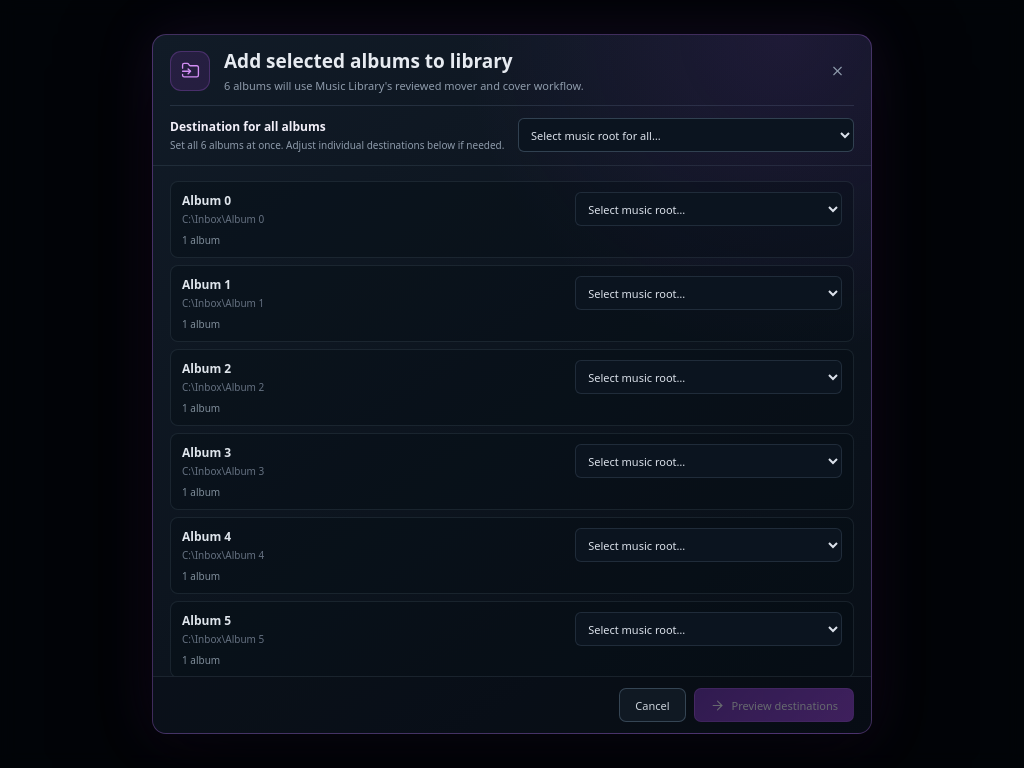
Test: requires review again when identical MP3s become different during a stale-plan retry
Select "General music" in the dropdown labelled "Destination for all albums" at (686, 135), box [518,118,854,152]
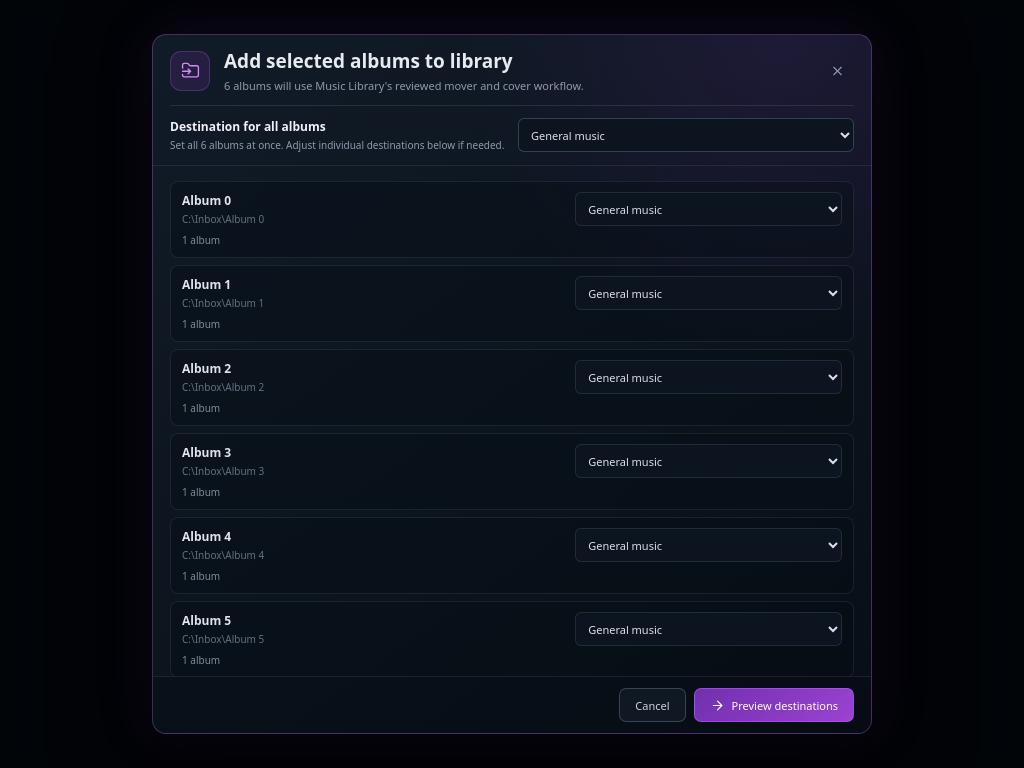
Select "Synthwave" in the dropdown named "Library destination for Album 5" at (709, 629), box [575,612,842,646]
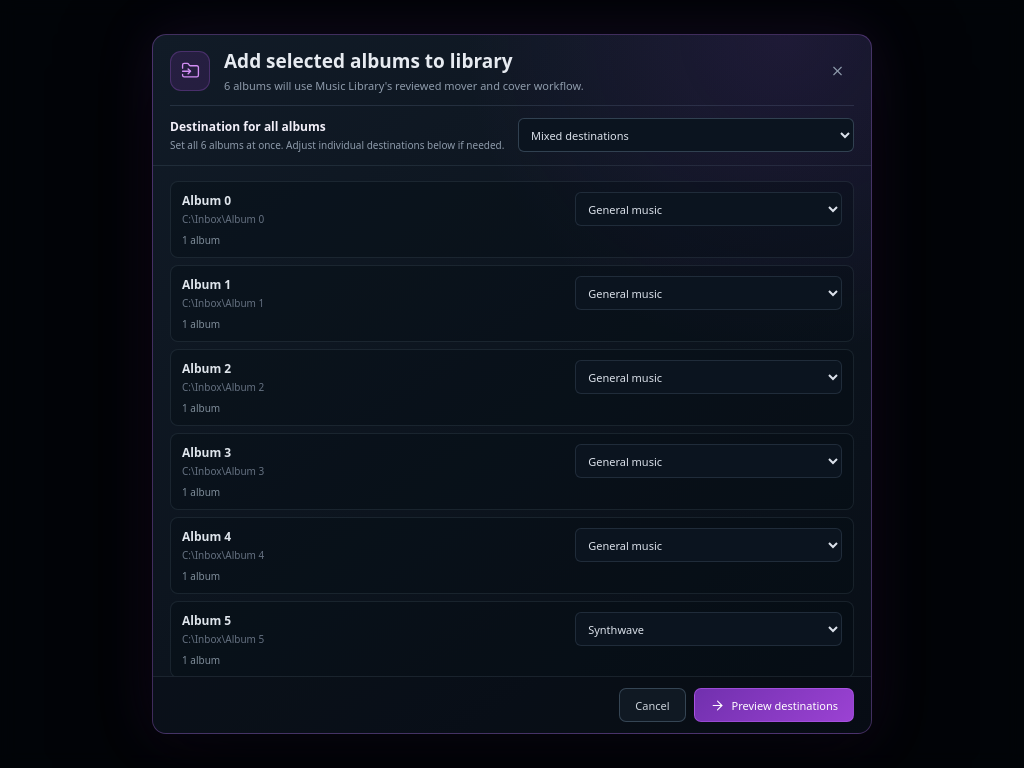
Click the button "Preview destinations" at (774, 705), box [694,688,854,722]
(page scrolled)
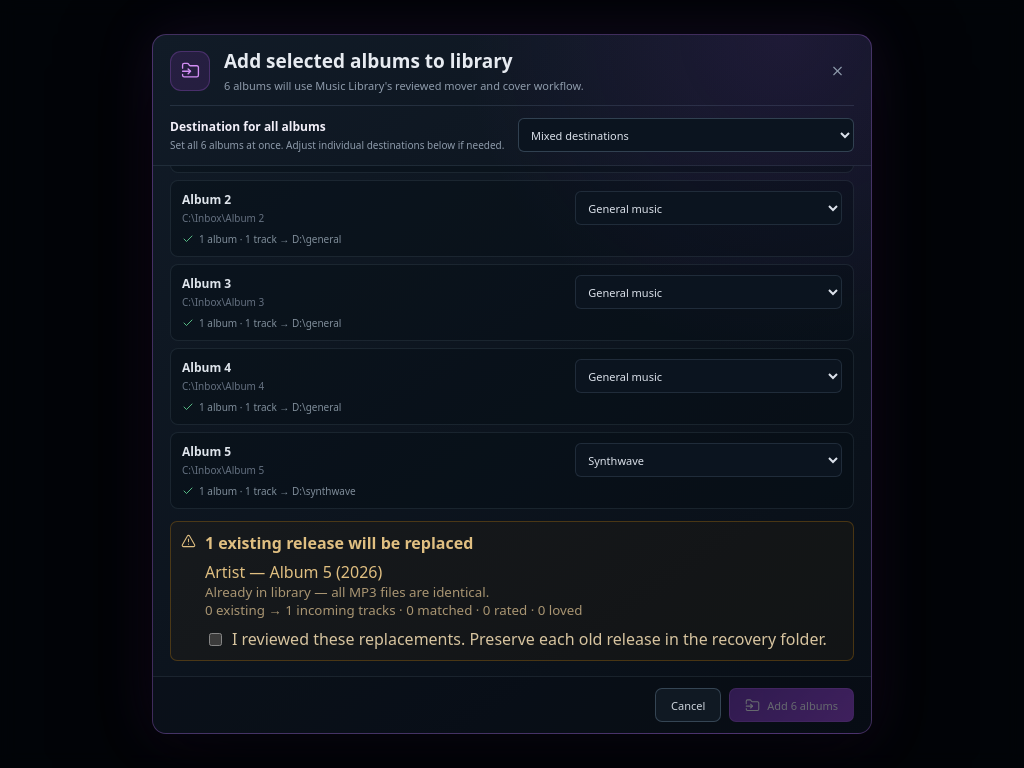
Click the checkbox labelled "I reviewed these replacements" at (216, 639), box [209,632,222,646]
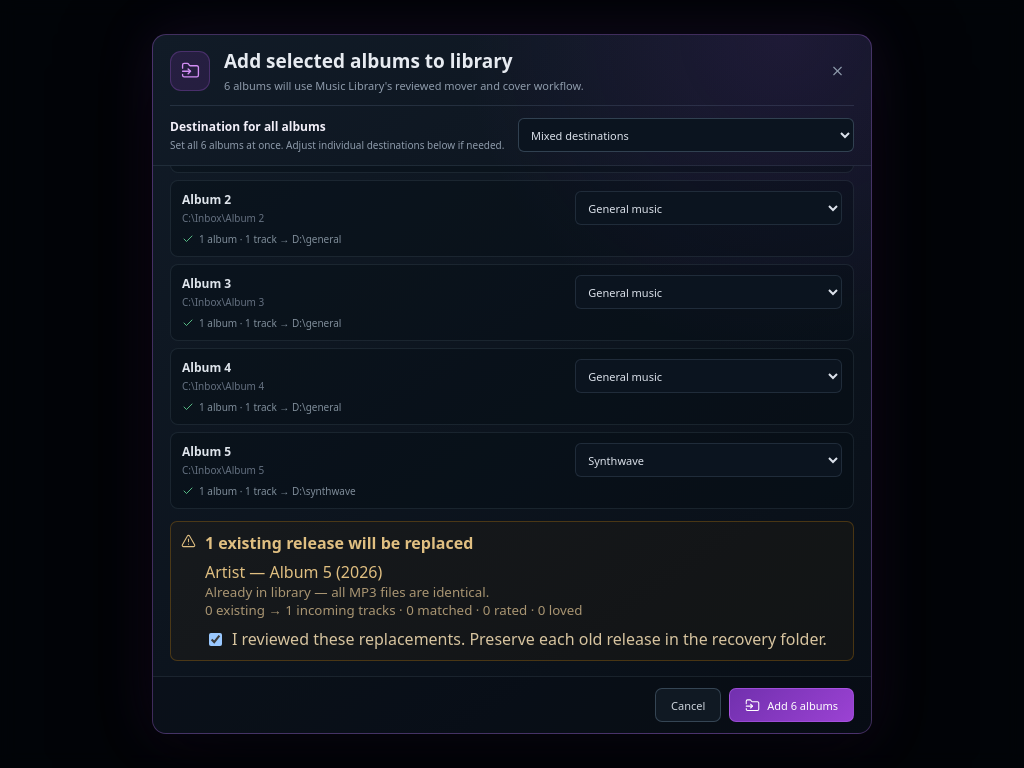
Click the button "Add 6 albums" at (792, 705), box [729,688,854,722]
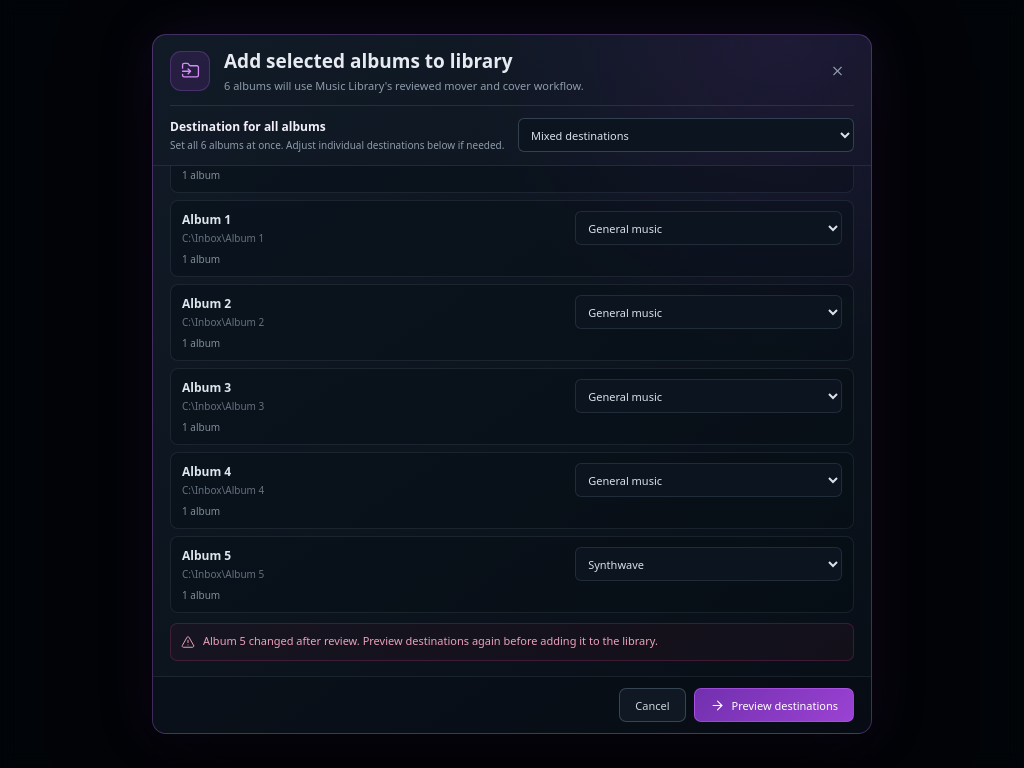
Result: the text "Album 5 changed after review" is shown at [203,633,658,648]
